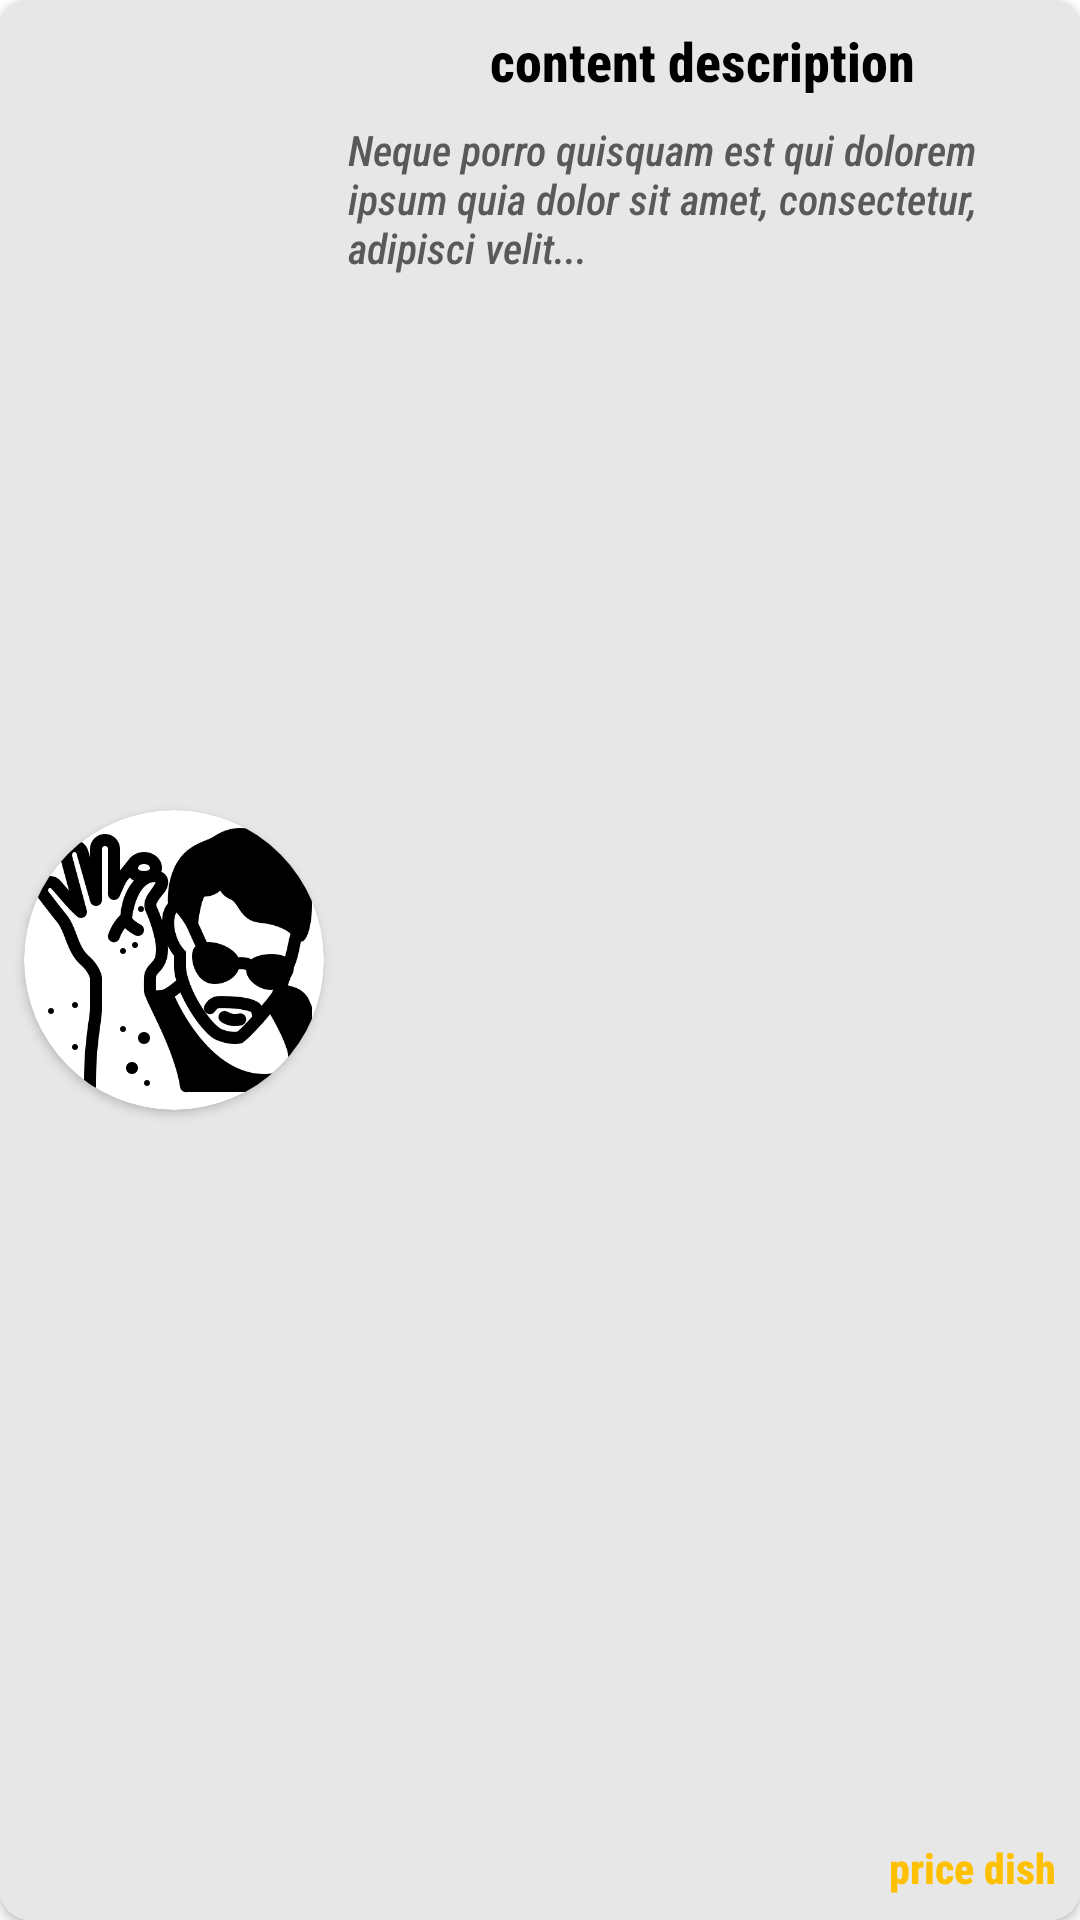

Icons on this 1080px x 1920px Android screen, each with its box as bbox=(x1, y1, x2, y2):
salty: bbox=(24, 810, 323, 1110)
